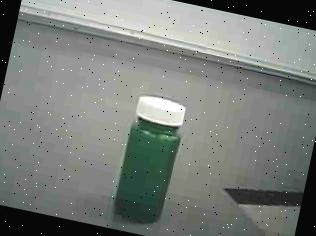Bottle C: (100, 86, 196, 232)
